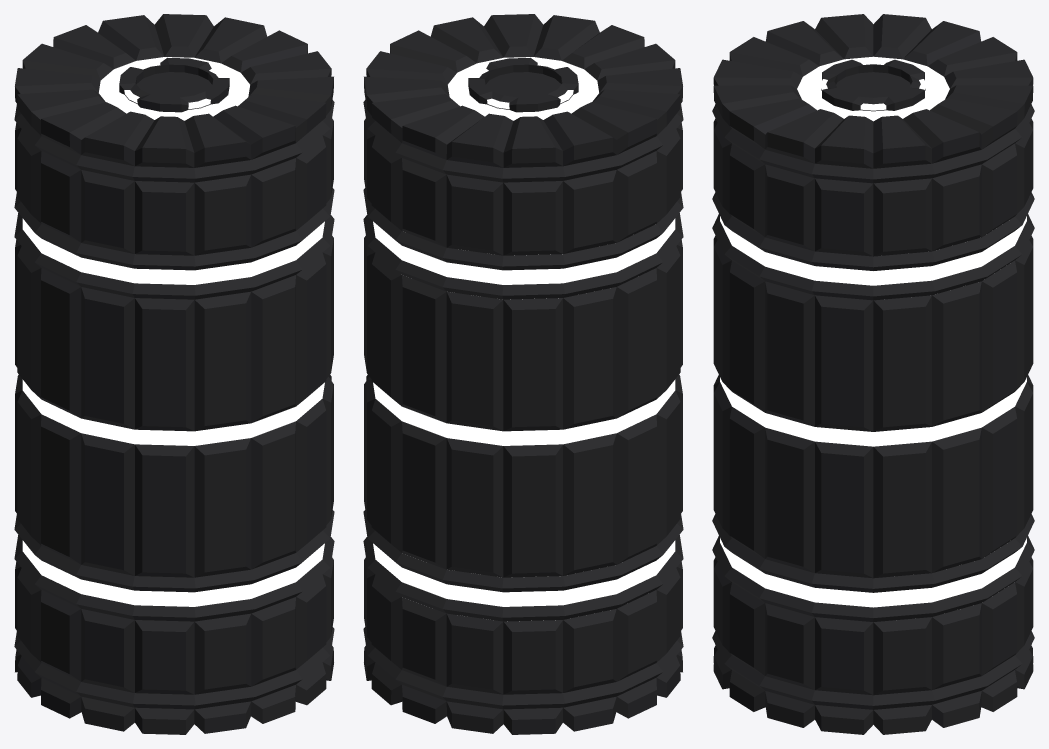
File: bypass5.fbx
3 renders of one model, left to right at view 1: azimuth 30°, elevation 25°; view 2: azimuth 150°, elevation 25°; view 3: azimuth 270°, elevation 25°, orthographic.
Parts seen in each view (by area): view 1: SciFI C1, neon011; view 2: SciFI C1, neon011; view 3: SciFI C1, neon011.
Boxes of the visible parts, x1=… form: SciFI C1: x1=14, y1=14, x2=334, y2=734; neon011: x1=22, y1=63, x2=249, y2=574; SciFI C1: x1=363, y1=14, x2=683, y2=734; neon011: x1=373, y1=57, x2=656, y2=621; SciFI C1: x1=712, y1=14, x2=1034, y2=734; neon011: x1=797, y1=57, x2=1026, y2=607.
Bounding box in the file's own units: 72.51 × 145 × 72.51.
